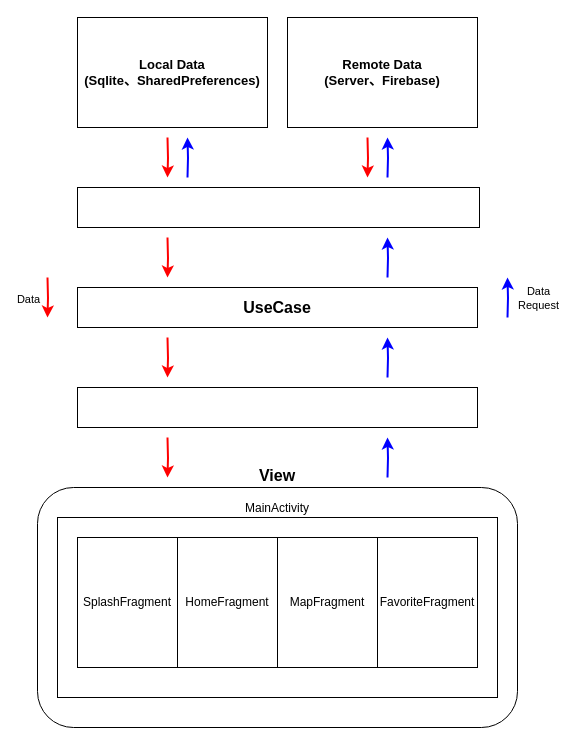
Some shapes in this 576 by 745 pixel diagram are drawn without their labels. Here are the shapes that lost their labels. From the top down, the centre of each, then its label:
point 278,207: Repository
point 277,407: ViewModel
